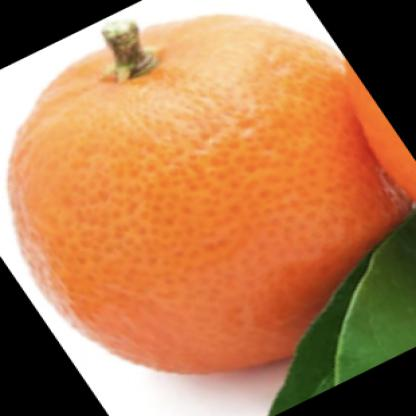orange: (8, 10, 401, 375)
